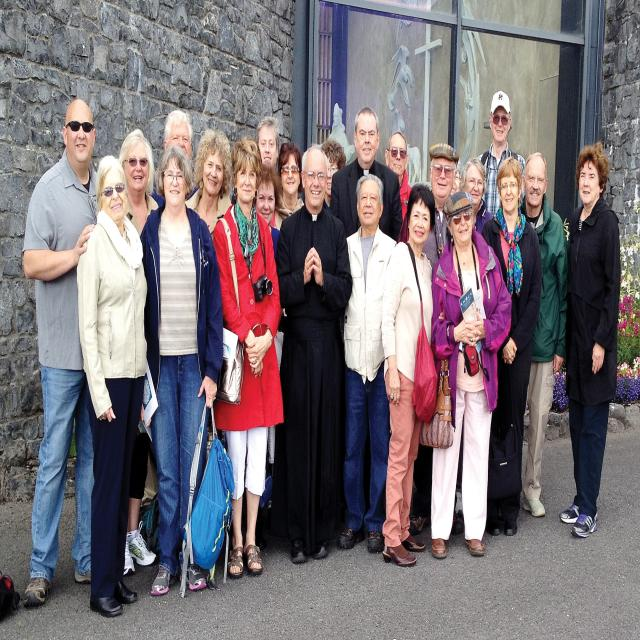body: (134, 142, 237, 604), (21, 96, 102, 610), (74, 149, 160, 622), (207, 135, 286, 581), (276, 140, 354, 566), (430, 189, 512, 560), (556, 139, 623, 541), (377, 181, 439, 572), (335, 173, 397, 554), (481, 157, 542, 538), (117, 126, 160, 577), (518, 151, 569, 518), (328, 105, 403, 245), (476, 89, 526, 218), (418, 140, 462, 278), (185, 127, 233, 242), (151, 109, 197, 209), (437, 150, 469, 259), (252, 162, 284, 262), (272, 139, 306, 231), (458, 155, 495, 237), (384, 129, 412, 223), (320, 137, 347, 215), (255, 115, 280, 172)
